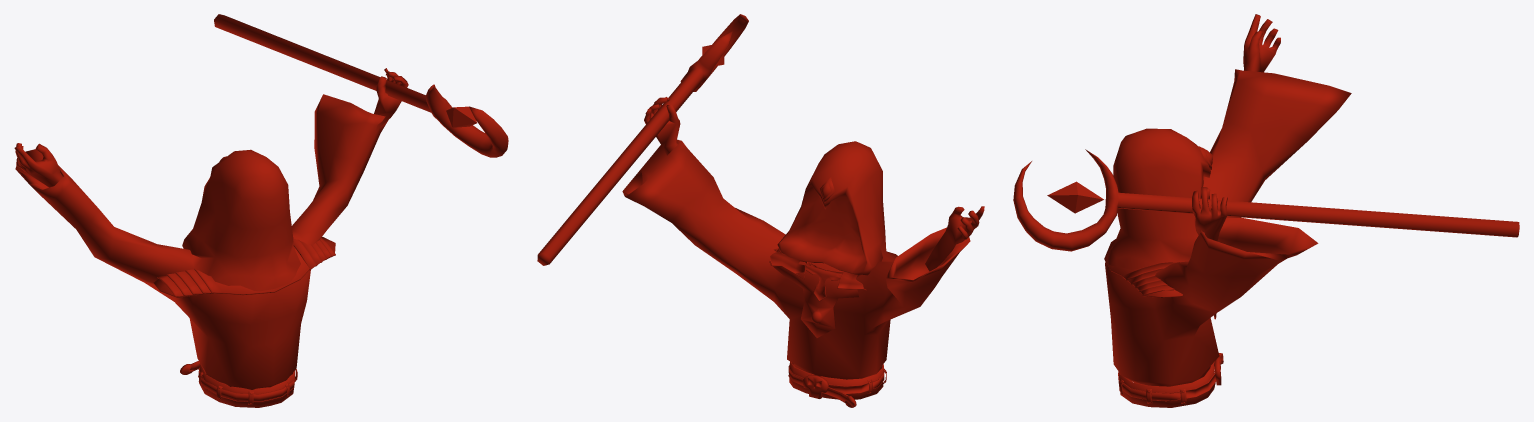
File: top_000033.obj
The picture shows the model from 3 angles, left to right: view 1: azimuth 30°, elevation 25°; view 2: azimuth 150°, elevation 25°; view 3: azimuth 270°, elevation 25°; orthographic projection. The views are drawn at different scales.
Visible parts, largest first — view 1: LowPoly_Warlock.000_Plane.005; view 2: LowPoly_Warlock.000_Plane.005; view 3: LowPoly_Warlock.000_Plane.005.
Boxes of the visible parts, left/top/right/bottom form: LowPoly_Warlock.000_Plane.005: left=14, top=14, right=508, bottom=407; LowPoly_Warlock.000_Plane.005: left=537, top=14, right=984, bottom=407; LowPoly_Warlock.000_Plane.005: left=1013, top=14, right=1519, bottom=407.
Bounding box in the file's own units: 1.81 × 1.3 × 1.89.
